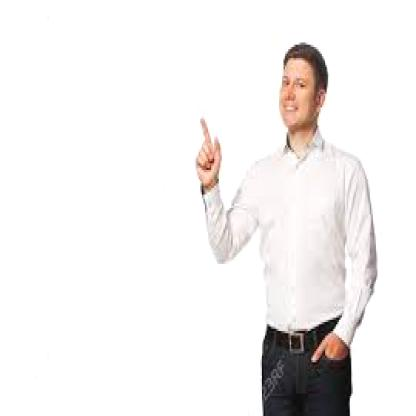Up: (185, 101, 233, 202)
